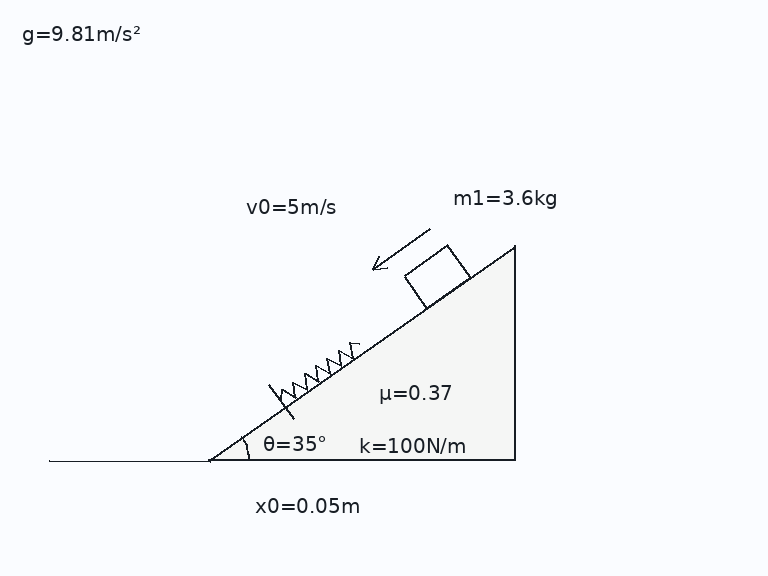block: (402, 243, 472, 310)
ramp: (207, 244, 517, 462)
spring: (278, 340, 362, 401)
